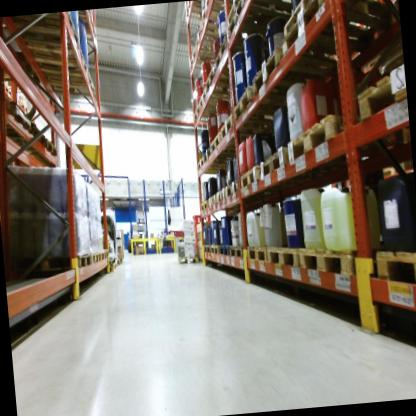pallet: (276, 0, 401, 64), (248, 35, 338, 111), (280, 114, 352, 174), (352, 52, 408, 120), (0, 12, 82, 58), (228, 75, 298, 123), (227, 0, 297, 48), (23, 41, 91, 85), (6, 248, 96, 279), (296, 241, 360, 284), (372, 233, 416, 290), (203, 60, 262, 100), (217, 109, 279, 144), (35, 68, 97, 101), (275, 0, 330, 37), (188, 16, 239, 50), (213, 35, 256, 75), (265, 235, 307, 274), (4, 135, 60, 164), (185, 42, 230, 76), (209, 127, 258, 155), (0, 121, 48, 149), (195, 0, 245, 26), (258, 146, 294, 178), (197, 85, 235, 115), (191, 100, 232, 126), (201, 146, 244, 168), (0, 63, 18, 115), (238, 165, 263, 197), (221, 0, 251, 25), (197, 156, 234, 176), (11, 104, 36, 132), (78, 10, 101, 40), (183, 0, 208, 22), (224, 175, 243, 201), (246, 244, 267, 265), (229, 242, 248, 263), (174, 252, 201, 266), (217, 237, 233, 260), (215, 187, 229, 210), (98, 262, 118, 278), (90, 248, 103, 269), (209, 239, 223, 258), (208, 193, 218, 209), (97, 246, 106, 262), (198, 253, 207, 268), (199, 200, 210, 212), (116, 250, 125, 263), (103, 248, 110, 264), (204, 242, 212, 253), (114, 258, 122, 269)
